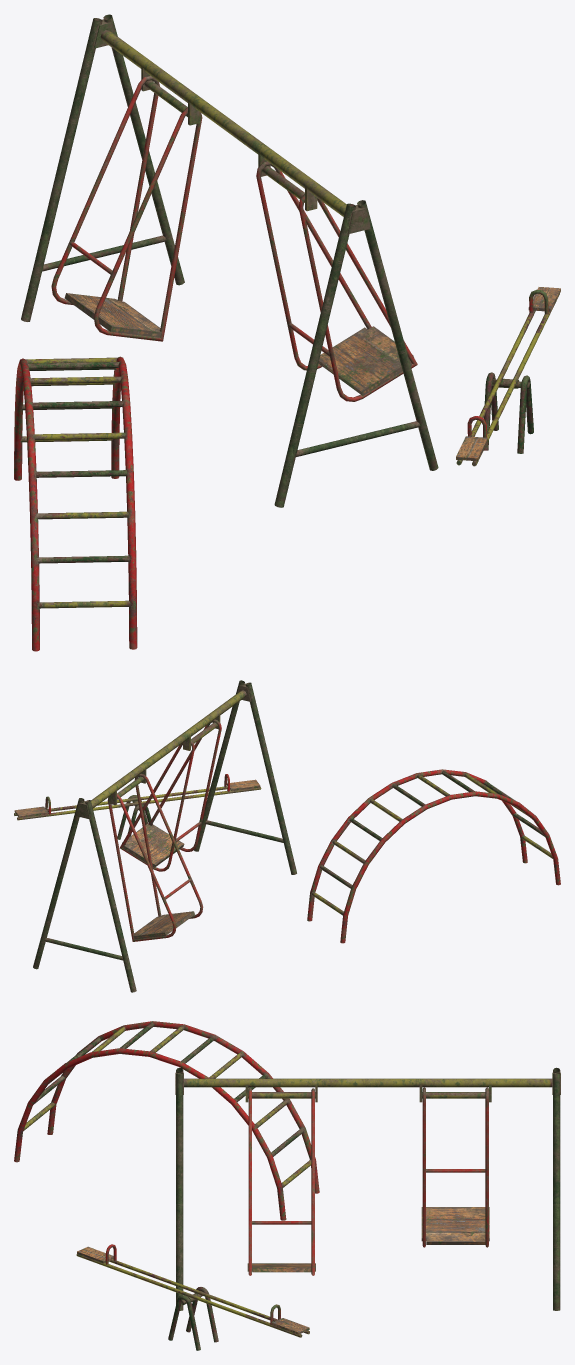
The model's file is playground.fbx.
The picture shows the model from 3 angles, top to bottom: view 1: azimuth 30°, elevation 25°; view 2: azimuth 150°, elevation 25°; view 3: azimuth 270°, elevation 25°; orthographic projection. The views are drawn at different scales.
Parts seen in each view (by area): view 1: Cylinder006, Circle002, Cylinder008, Cylinder007, Cylinder003, Line001; view 2: Cylinder006, Circle002, Cylinder008, Cylinder007, Cylinder003, Line001; view 3: Cylinder006, Circle002, Cylinder007, Cylinder008, Cylinder003, Line001.
Part boxes in pixels (x1,y1,x2,y2): Cylinder006: (21, 14, 438, 507); Circle002: (14, 356, 137, 651); Cylinder008: (256, 161, 417, 401); Cylinder007: (51, 75, 202, 341); Cylinder003: (456, 287, 560, 466); Line001: (483, 372, 533, 453); Cylinder006: (33, 680, 296, 992); Circle002: (307, 769, 560, 943); Cylinder008: (120, 719, 221, 871); Cylinder007: (107, 773, 203, 941); Cylinder003: (14, 774, 261, 820); Line001: (117, 795, 152, 839); Cylinder006: (175, 1067, 560, 1310); Circle002: (14, 1021, 319, 1220); Cylinder007: (421, 1087, 489, 1247); Cylinder008: (247, 1088, 315, 1275); Cylinder003: (76, 1244, 309, 1337); Line001: (168, 1287, 218, 1350).
Size of the model in its own units: 497 by 195 by 455.
6 materials, 6 textured.
